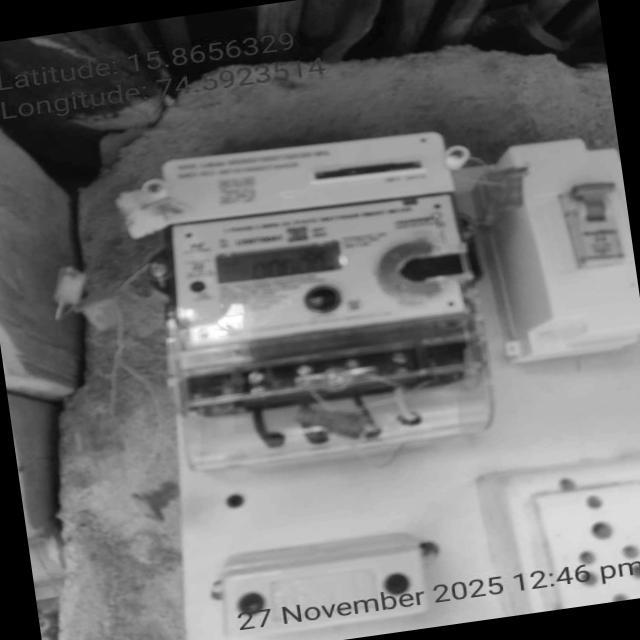meter: (149, 116, 482, 355)
